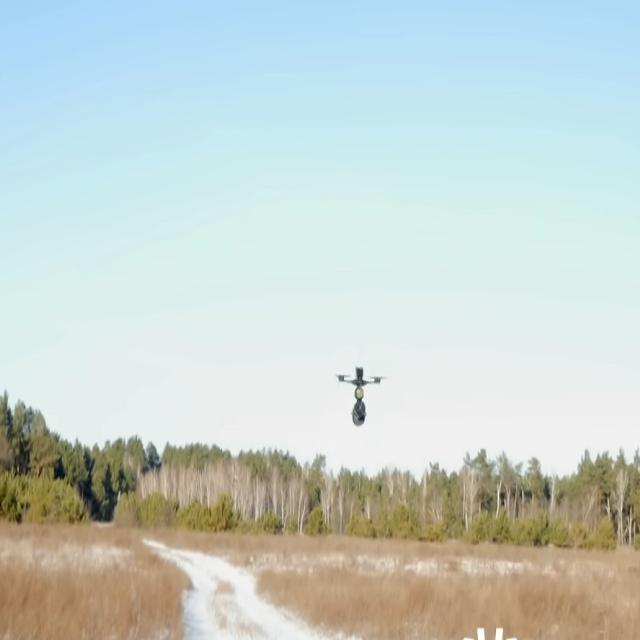drone: (331, 363, 389, 428)
